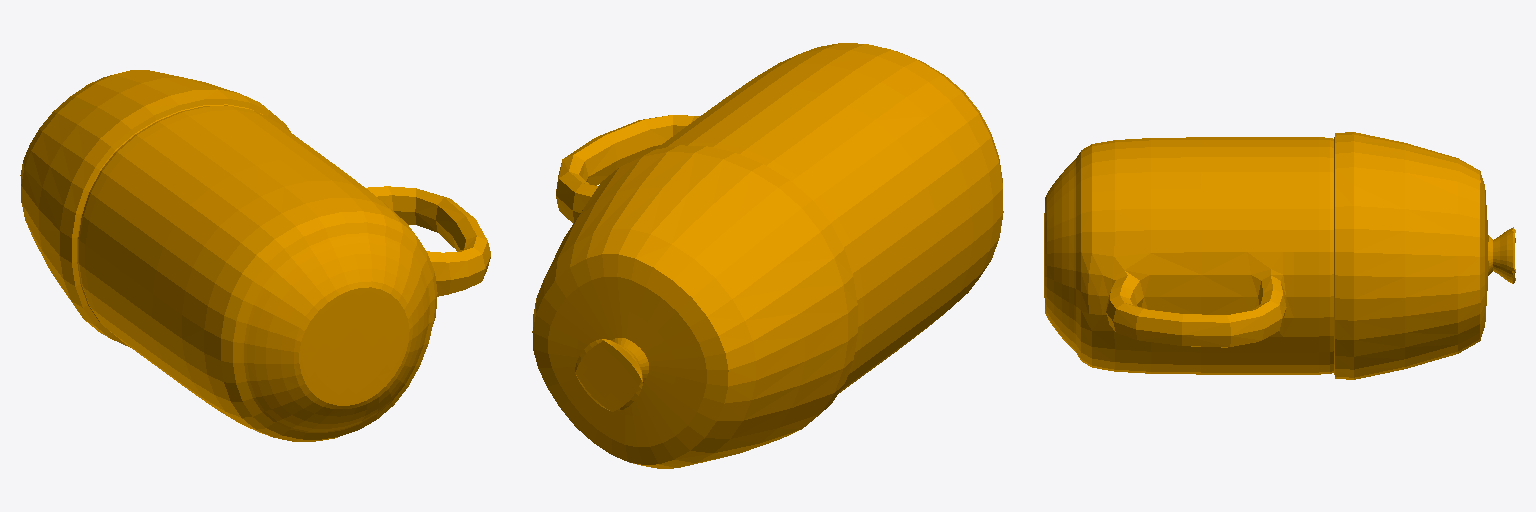
robot.urdf — 172:
<?xml version="1.0" ?>
<robot name="172">
  <link name="body">
    <visual>
      <geometry>
        <mesh filename="../shapes/172.obj"/>
      </geometry>
    </visual>
    <collision>
      <geometry>
        <mesh filename="../shapes/172.obj"/>
      </geometry>
    </collision>
  </link>
</robot>

--- Render facts (derived) ---
3 views of the same robot in one strip: view 1: azimuth 30°, elevation 25°; view 2: azimuth 150°, elevation 25°; view 3: azimuth 270°, elevation 25° (orthographic).
Robot: 172 — 1 links, 0 joints (none); root link body; default pose: all joints at 0.
Links seen in each view (by area): view 1: body; view 2: body; view 3: body.
Link boxes in pixels (x1,y1,x2,y2): body: (20, 70, 490, 441); body: (532, 43, 1003, 468); body: (1044, 132, 1515, 379).
Size in the robot's own frame: 3.43 by 4.92 by 2.55 metres.
1 mesh visuals loaded from 1 distinct referenced files (1 OBJ).